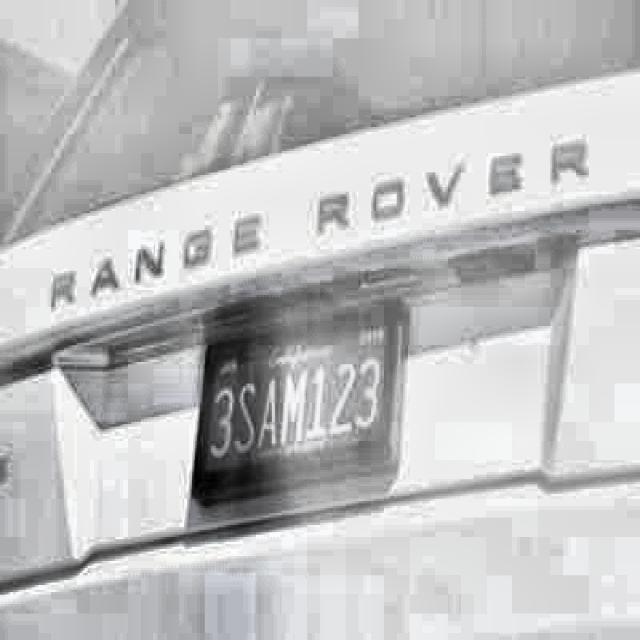license_plate: (196, 343, 394, 481)
